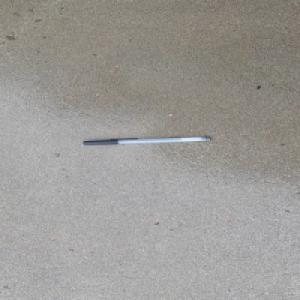Pen: (82, 135, 212, 145)
